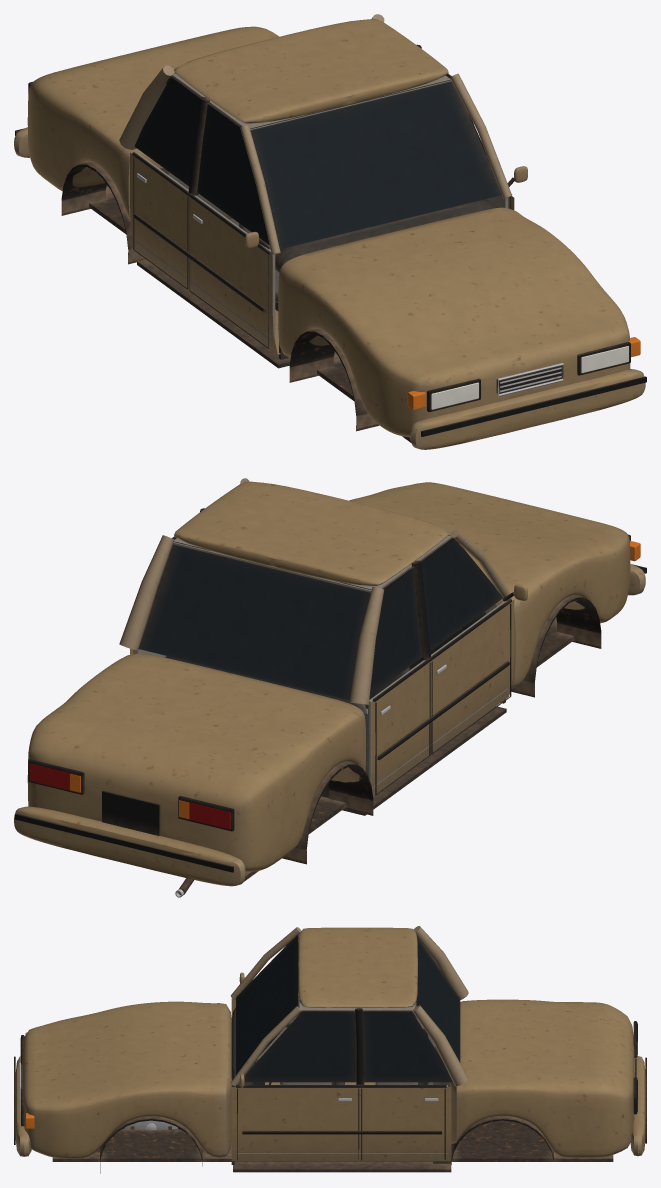
File: SedanV2.fbx
The picture shows the model from 3 angles, top to bottom: view 1: azimuth 30°, elevation 25°; view 2: azimuth 150°, elevation 25°; view 3: azimuth 270°, elevation 25°; orthographic projection. The views are drawn at different scales.
Visible parts, largest first — view 1: SedanBody, SedanGlass, SedanInterior; view 2: SedanBody, SedanGlass, SedanInterior; view 3: SedanBody, SedanGlass, SedanInterior, SedanWheel.
Boxes of the visible parts, bbox=[...] form: SedanBody: bbox=[14, 14, 646, 449]; SedanGlass: bbox=[134, 73, 501, 249]; SedanInterior: bbox=[135, 73, 508, 368]; SedanBody: bbox=[14, 478, 646, 897]; SedanGlass: bbox=[138, 535, 502, 700]; SedanInterior: bbox=[135, 535, 507, 815]; SedanBody: bbox=[14, 926, 646, 1173]; SedanGlass: bbox=[236, 934, 460, 1082]; SedanInterior: bbox=[231, 934, 451, 1172]; SedanWheel: bbox=[122, 1120, 180, 1130].
Size of the model in its own units: 232 by 198 by 585.
Materials: 4 (4 with a texture image).
